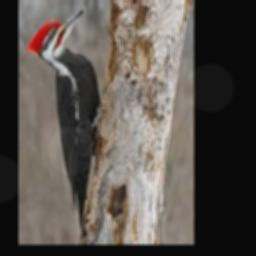Woodpecker: (26, 7, 101, 232)
